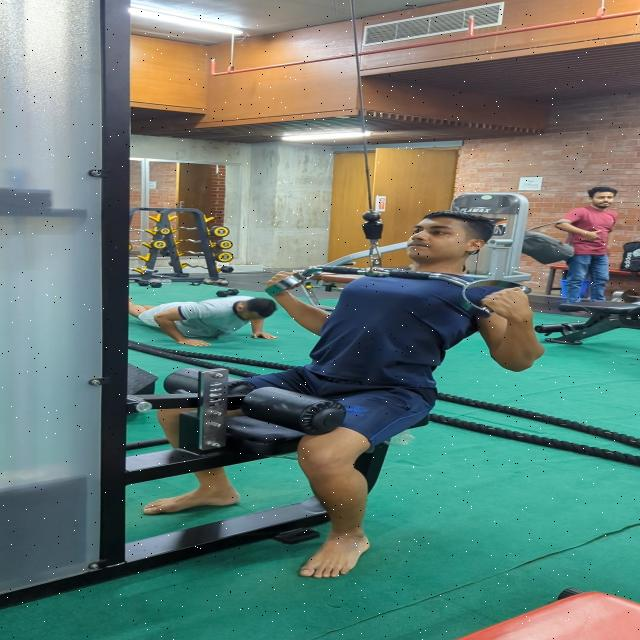Normal_LatPulldown: (136, 206, 554, 582)
